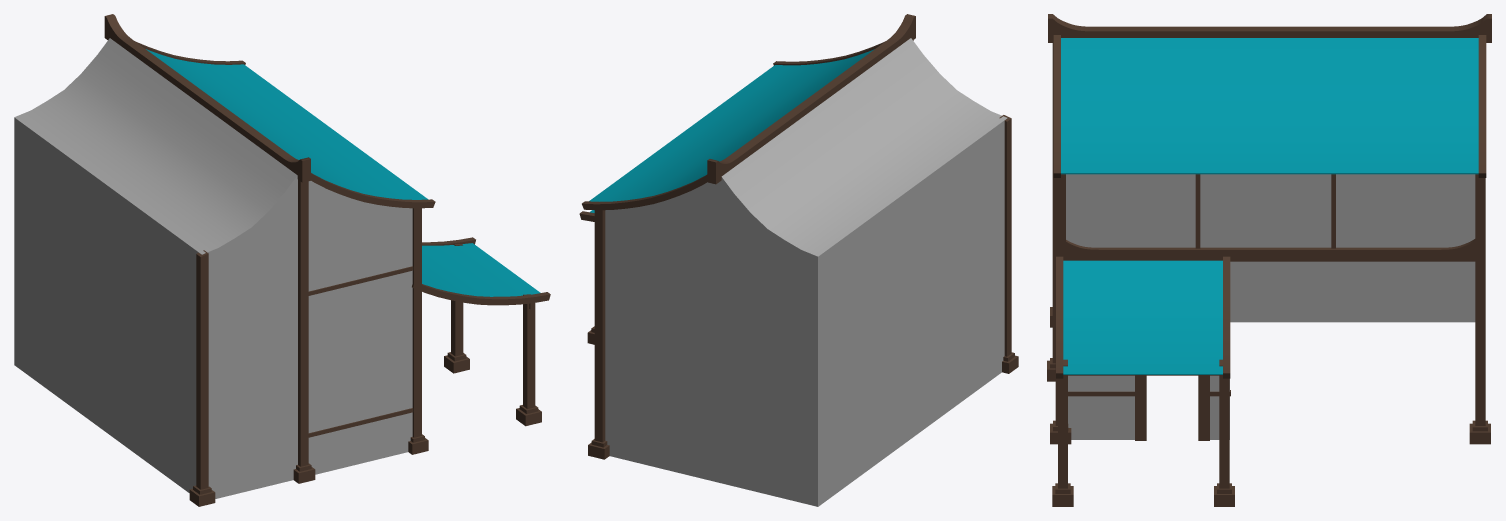
File: shed.fbx
3 views of the same model, side by side, from view 1: azimuth 30°, elevation 25°; view 2: azimuth 150°, elevation 25°; view 3: azimuth 270°, elevation 25° (orthographic). The views are drawn at different scales.
Visible parts, largest first — view 1: SmithyV3:pCube44, SmithyV3:pCube47, SmithyV3:pCube32, SmithyV3:pCube35, SmithyV3:pCube36, SmithyV3:pCube25, SmithyV3:pCube31, SmithyV3:pCube29, pCube25; view 2: SmithyV3:pCube44, SmithyV3:pCube32, SmithyV3:pCube16, SmithyV3:pCube47, SmithyV3:pCube31; view 3: SmithyV3:pCube44, SmithyV3:pCube3, SmithyV3:pCube32, SmithyV3:pCube16, SmithyV3:pCube31, pCube25, SmithyV3:pCube25, SmithyV3:pCube36, SmithyV3:pCube35, SmithyV3:pCube29, SmithyV3:pCube46, SmithyV3:pCube14 (+1 smaller).
Boxes of the visible parts, <box> form: SmithyV3:pCube44: <box>14,38,540,498</box>; SmithyV3:pCube47: <box>189,250,215,506</box>; SmithyV3:pCube32: <box>104,14,310,182</box>; SmithyV3:pCube35: <box>293,180,315,483</box>; SmithyV3:pCube36: <box>408,208,428,454</box>; SmithyV3:pCube25: <box>516,294,541,426</box>; SmithyV3:pCube31: <box>135,41,435,208</box>; SmithyV3:pCube29: <box>412,284,550,305</box>; pCube25: <box>444,244,469,373</box>; SmithyV3:pCube44: <box>589,38,1007,506</box>; SmithyV3:pCube32: <box>707,14,915,184</box>; SmithyV3:pCube16: <box>588,210,609,459</box>; SmithyV3:pCube47: <box>999,115,1018,373</box>; SmithyV3:pCube31: <box>582,41,885,210</box>; SmithyV3:pCube44: <box>1061,38,1478,439</box>; SmithyV3:pCube3: <box>1066,239,1475,261</box>; SmithyV3:pCube32: <box>1048,14,1491,42</box>; SmithyV3:pCube16: <box>1469,174,1490,444</box>; SmithyV3:pCube31: <box>1053,35,1486,177</box>; pCube25: <box>1214,359,1234,506</box>; SmithyV3:pCube25: <box>1052,359,1073,506</box>; SmithyV3:pCube36: <box>1050,174,1071,444</box>; SmithyV3:pCube35: <box>1047,43,1055,381</box>; SmithyV3:pCube29: <box>1056,256,1063,378</box>; SmithyV3:pCube46: <box>1223,256,1230,378</box>; SmithyV3:pCube14: <box>1135,375,1146,440</box>.
Size of the model in its own units: 33.87 by 29.38 by 32.82.
